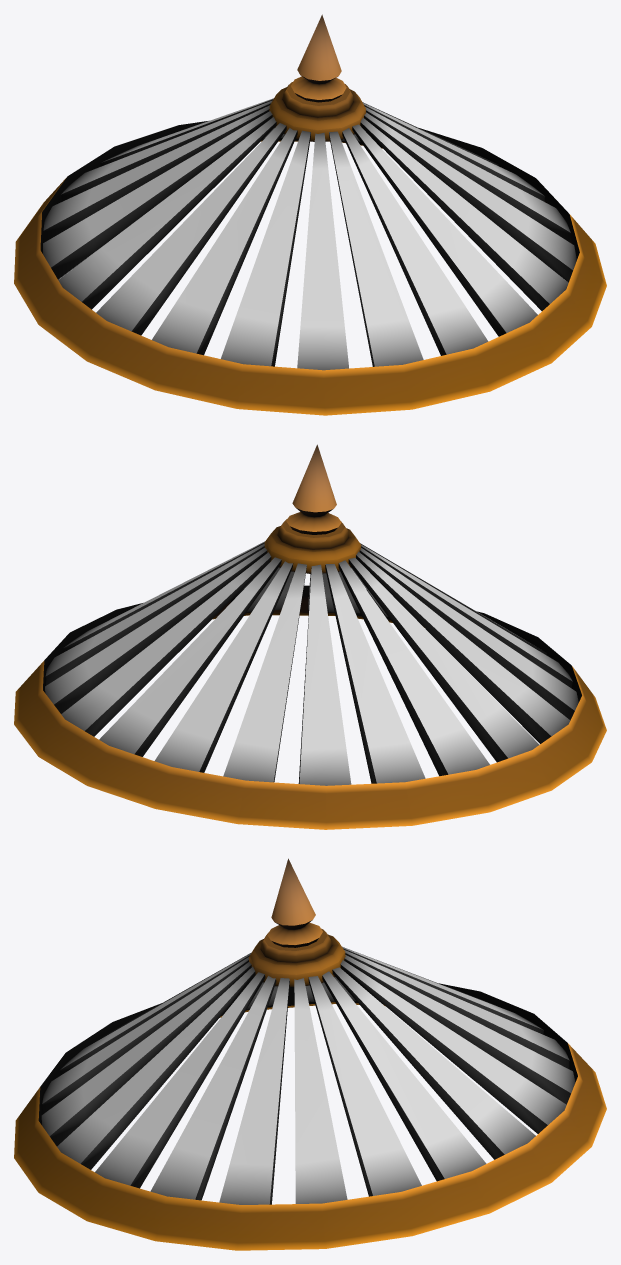
Rendered from Cap_Cone_Armored_Hat.gltf.
3 renders of one model, top to bottom at view 1: azimuth 30°, elevation 25°; view 2: azimuth 150°, elevation 25°; view 3: azimuth 270°, elevation 25°, orthographic.
Visible parts, largest first — view 1: Cap_Cone_Armored_Hat; view 2: Cap_Cone_Armored_Hat; view 3: Cap_Cone_Armored_Hat.
Part boxes in pixels (x1=…): Cap_Cone_Armored_Hat: x1=14, y1=14, x2=606, y2=415; Cap_Cone_Armored_Hat: x1=14, y1=444, x2=606, y2=829; Cap_Cone_Armored_Hat: x1=14, y1=858, x2=606, y2=1250.
Size of the model in its own units: 1.31 by 0.6906 by 1.3.
Materials: 2 (1 with a texture image).
